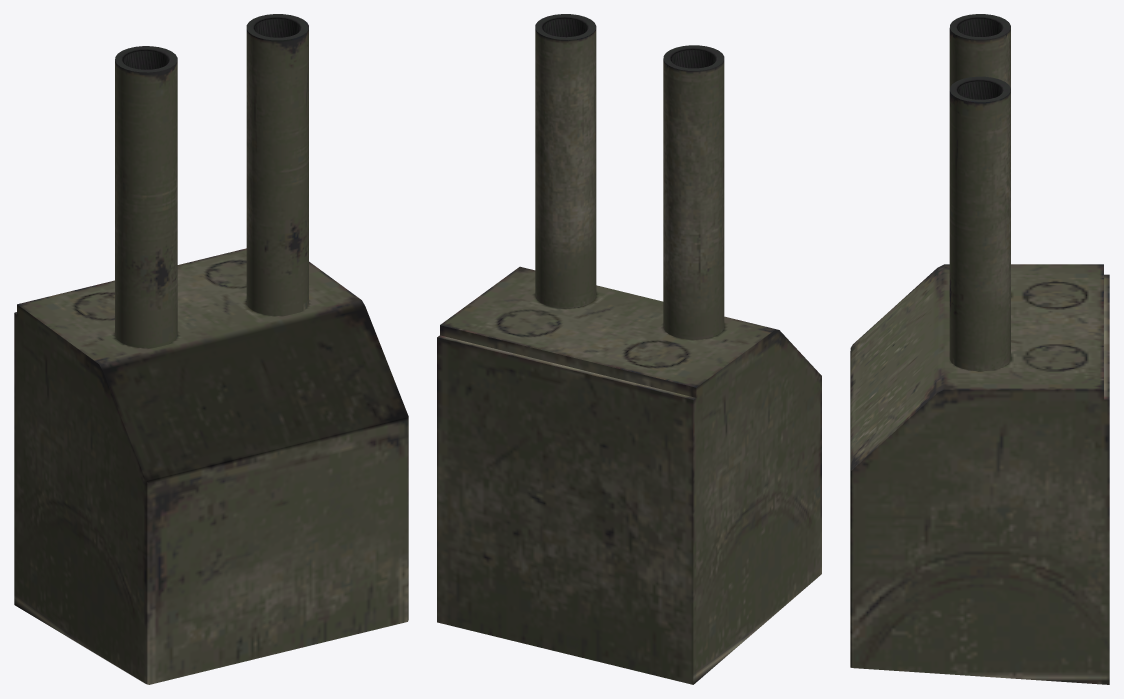
The model's file is Gun_01.glb.
The picture shows the model from 3 angles, left to right: view 1: azimuth 30°, elevation 25°; view 2: azimuth 150°, elevation 25°; view 3: azimuth 270°, elevation 25°; orthographic projection. The views are drawn at different scales.
Parts seen in each view (by area): view 1: set_0_group_0; view 2: set_0_group_0; view 3: set_0_group_0.
Part boxes in pixels (left/top/right/bottom): set_0_group_0: left=14, top=14, right=408, bottom=684; set_0_group_0: left=437, top=14, right=821, bottom=684; set_0_group_0: left=850, top=14, right=1109, bottom=684.
Bounding box in the file's own units: 0.8 × 1.68 × 0.7005.
1 material, 1 textured.
